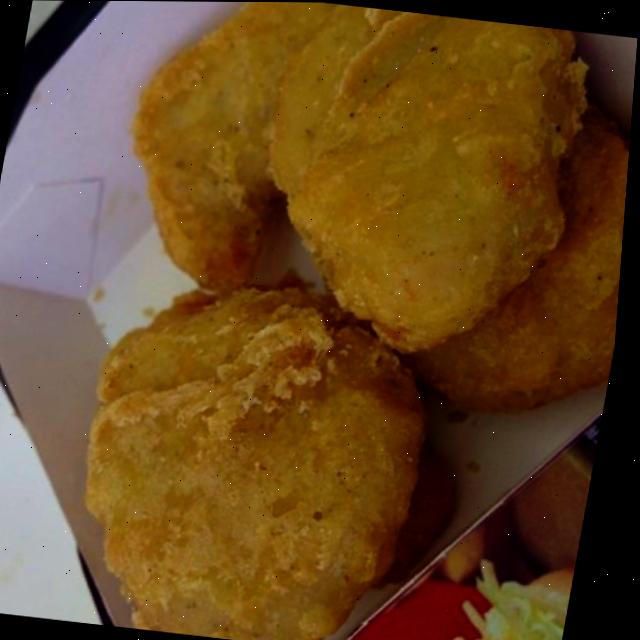鸡肉料理 含炸鸡: (28, 0, 640, 640)
